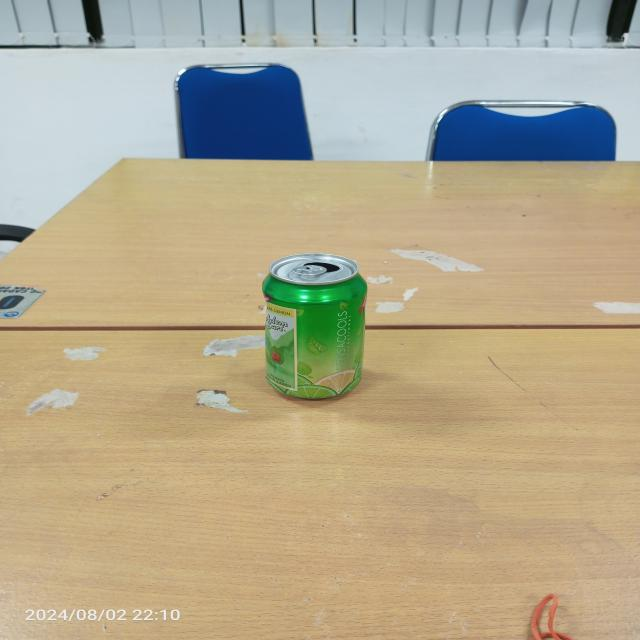ademsarikaleng: (260, 252, 368, 400)
